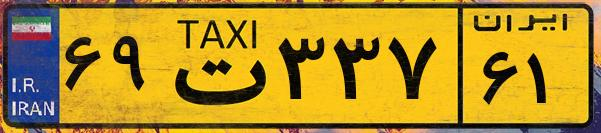1: (525, 38, 570, 115)
3: (270, 28, 330, 110), (330, 28, 385, 110)
6: (57, 26, 110, 100), (475, 38, 525, 113)
7: (385, 28, 445, 110)
9: (110, 28, 158, 98)
ت: (158, 12, 270, 120)
